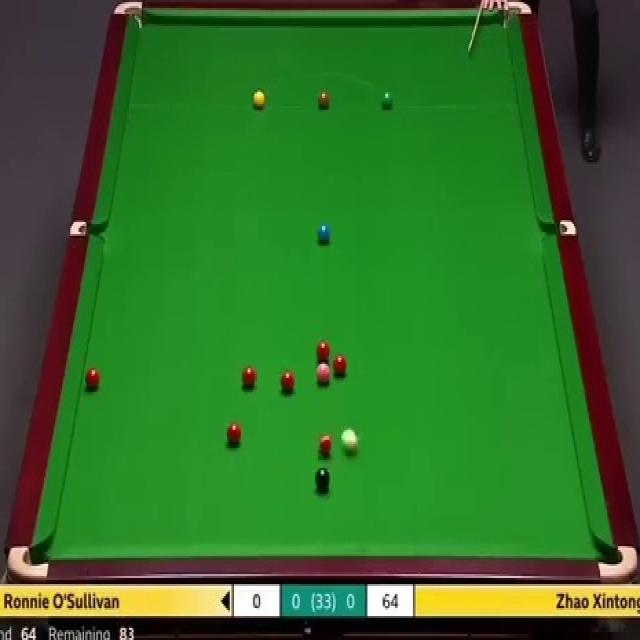black-ball: (314, 467, 330, 491)
blue-ball: (316, 225, 331, 242)
brown-ball: (317, 91, 331, 109)
green-ball: (380, 88, 395, 110)
pink-ball: (315, 362, 330, 386)
red-ball: (314, 339, 332, 362), (279, 371, 296, 394), (333, 352, 348, 376), (317, 432, 331, 457), (242, 366, 256, 391), (227, 422, 240, 446), (86, 368, 100, 389)
white-ball: (341, 427, 358, 454)
yellow-ball: (253, 90, 265, 110)
